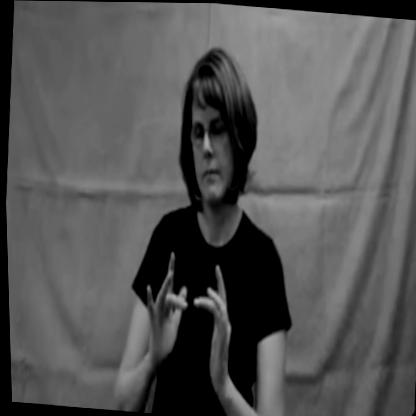Internet: (132, 237, 238, 393)
